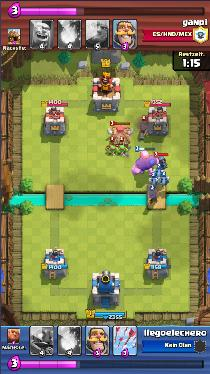ally_giant: (132, 150, 160, 175)
ally_minion: (149, 176, 159, 187), (160, 177, 169, 187), (156, 168, 164, 177)
ally_musketeer: (148, 187, 159, 203)
enemy_goblin_hut: (106, 127, 134, 152)
enemy_mini_pekka: (157, 154, 167, 168)
enemy_musketeer: (138, 122, 149, 140)
enemy_spear_goblin: (105, 145, 117, 156), (118, 145, 127, 157)
